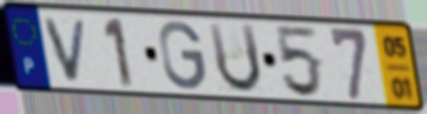1: (101, 16, 137, 90)
5: (271, 23, 327, 99)
7: (327, 24, 371, 103)
G: (156, 19, 209, 92)
U: (205, 20, 265, 96)
V: (41, 16, 91, 85)
